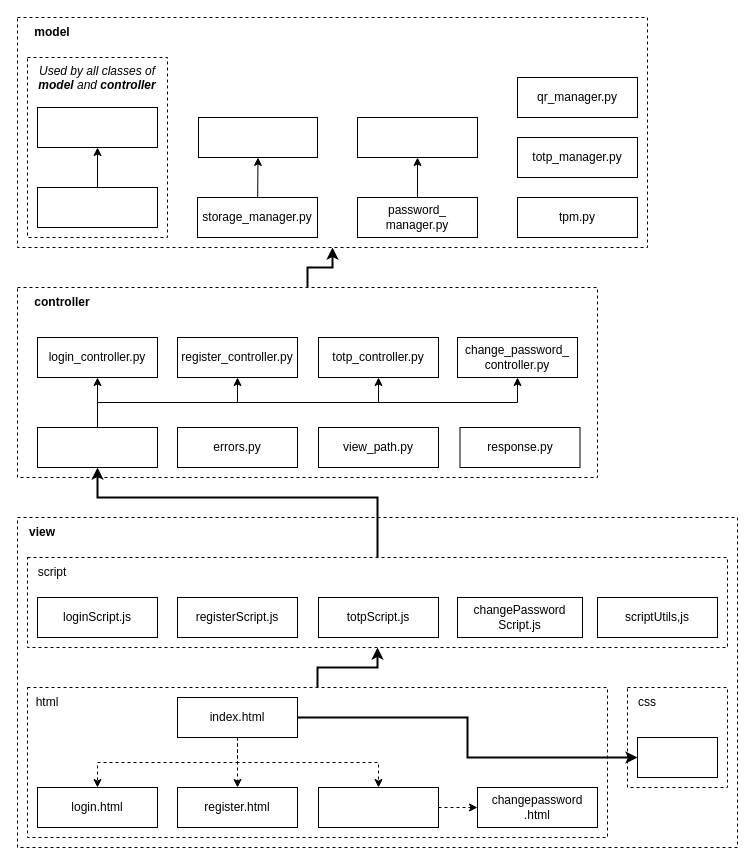
This 755x865 diagram has some shape labels left out. The centre of each missing label's shape, as x and y in pixels:
config_manager.py: [97,207]
encryptor.py: [258,137]
hasher.py: [417,137]
logger_manager.py: [97,127]
master_controller.py: [97,447]
style.css: [677,757]
totp.html: [378,807]
